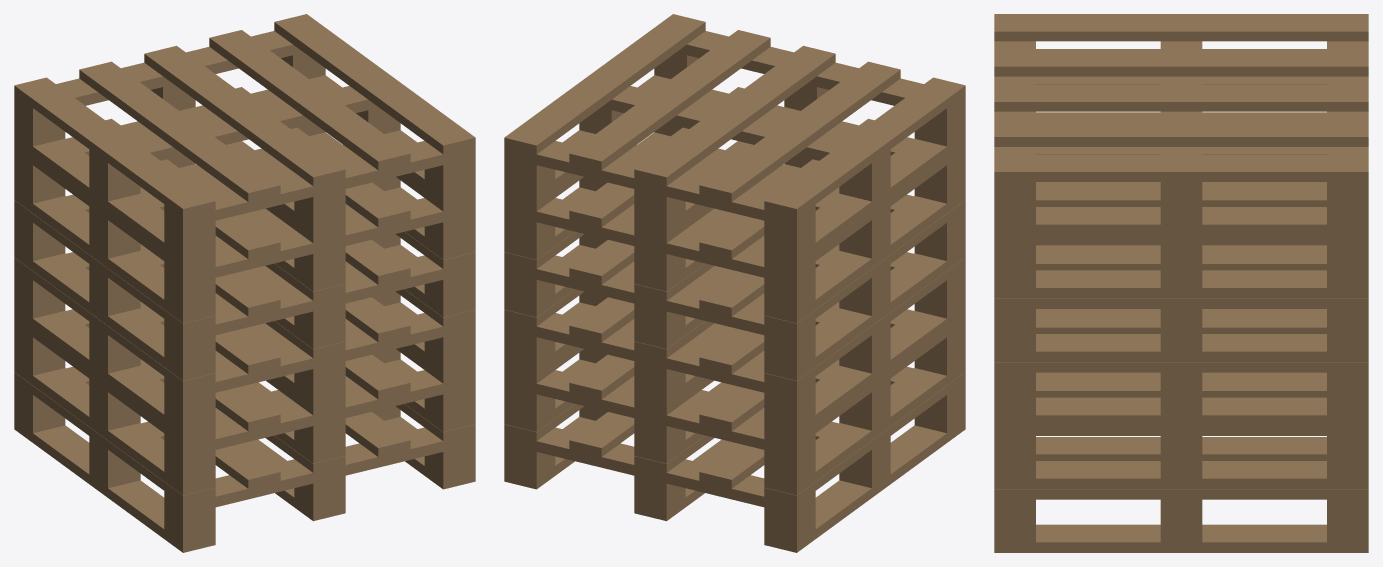
The model's file is pile of pallettes.fbx.
3 renders of one model, left to right at view 1: azimuth 30°, elevation 25°; view 2: azimuth 150°, elevation 25°; view 3: azimuth 270°, elevation 25°, orthographic. The views are drawn at different scales.
Visible parts, largest first — view 1: Pallet.005; view 2: Pallet.005; view 3: Pallet.005.
Part boxes in pixels (x1=…): Pallet.005: x1=14, y1=14, x2=475, y2=552; Pallet.005: x1=504, y1=14, x2=965, y2=552; Pallet.005: x1=994, y1=14, x2=1368, y2=552.
Bounding box in the file's own units: 346 × 389 × 346.
